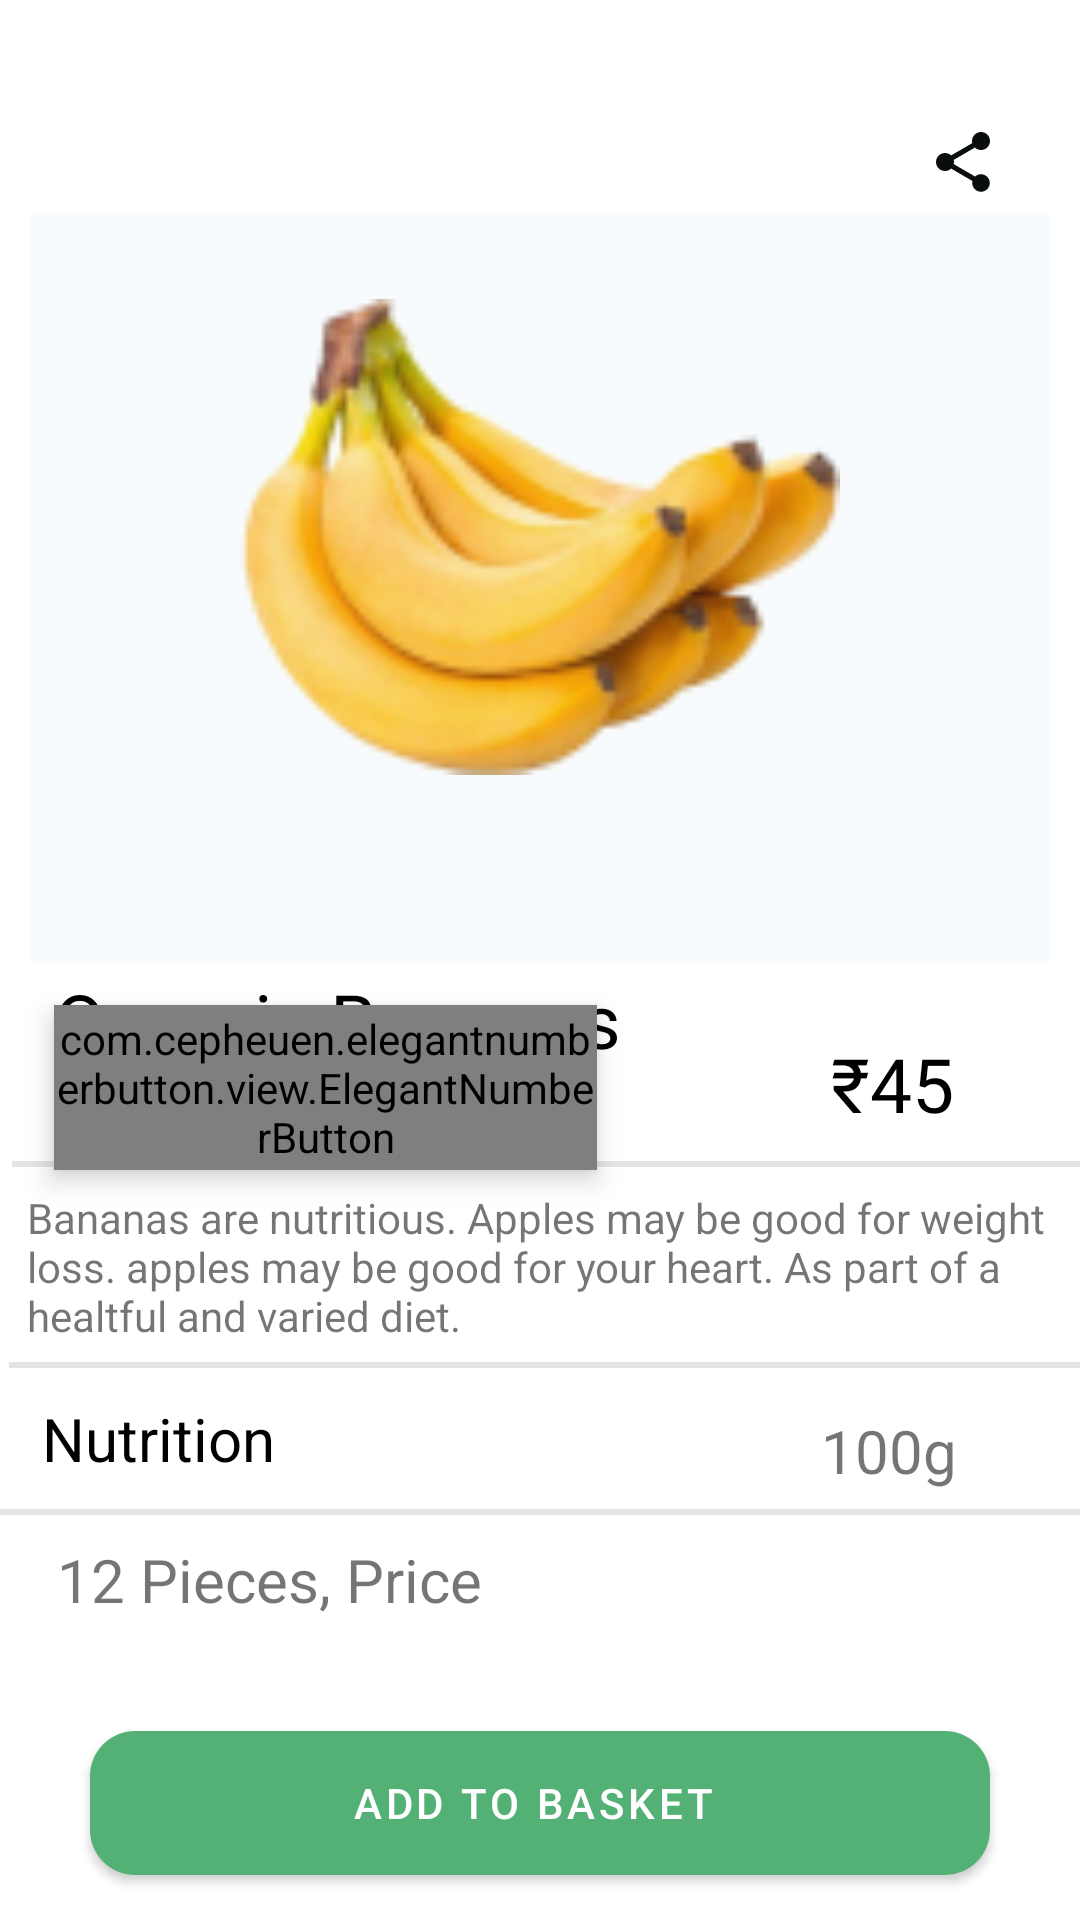

Point at icon controls on the screen. Image size 1080w x 1920h, points as (x=x, y=y).
share: (x=963, y=162)
